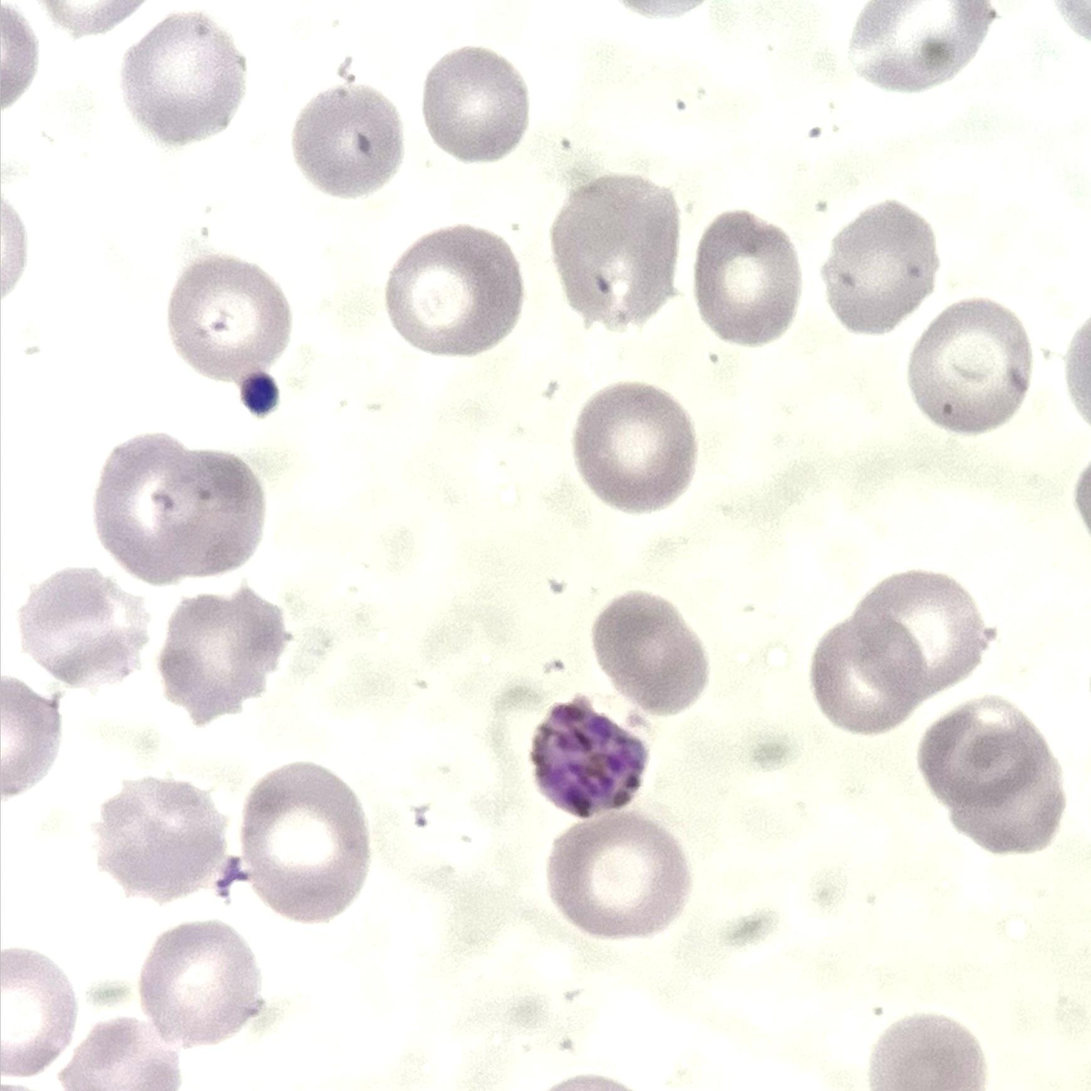Infected: (527, 690, 647, 820)
Uninfected: (546, 168, 680, 327), (242, 761, 359, 925), (159, 586, 292, 726), (385, 226, 526, 355), (548, 811, 687, 935), (94, 776, 225, 904), (125, 11, 247, 141), (575, 379, 695, 511), (907, 299, 1024, 434), (819, 199, 932, 338), (167, 253, 292, 378), (23, 569, 149, 693), (94, 433, 195, 581), (142, 918, 257, 1046), (594, 590, 708, 713), (840, 0, 984, 96), (692, 212, 797, 343), (153, 448, 261, 574), (867, 569, 983, 683), (920, 694, 1041, 802), (938, 753, 1066, 855), (815, 611, 926, 728), (295, 82, 406, 198), (424, 51, 526, 166), (872, 1008, 988, 1091), (0, 947, 72, 1071)
